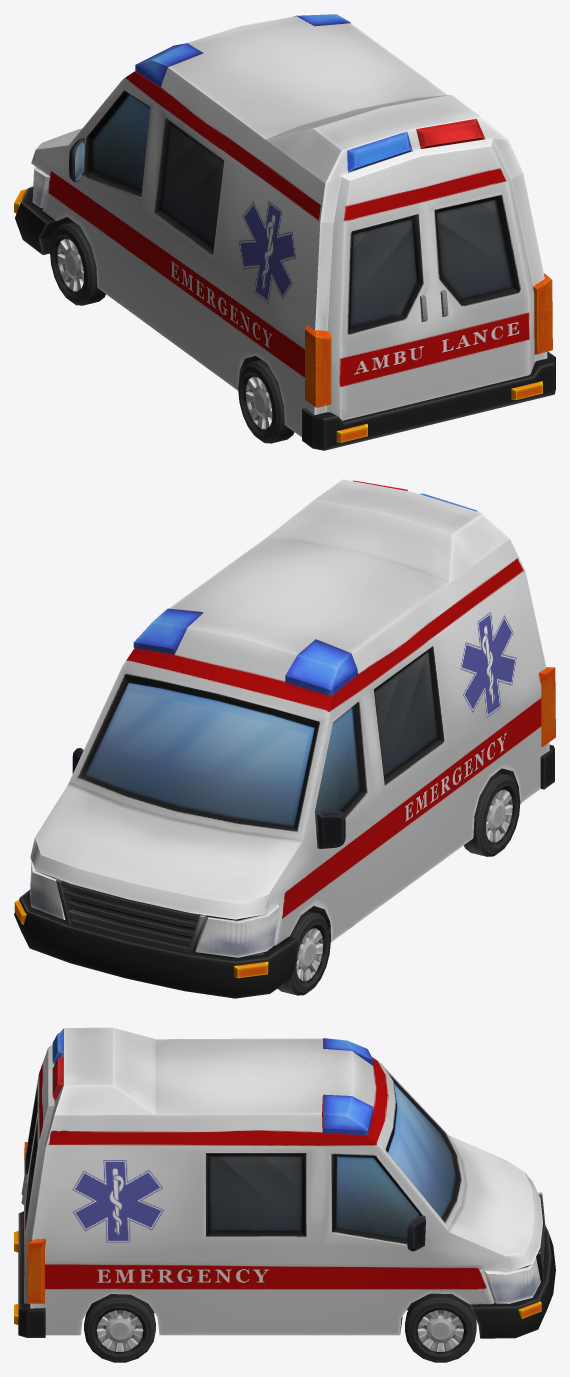
File: ambulance_car_-_low_poly.glb
The picture shows the model from 3 angles, top to bottom: view 1: azimuth 30°, elevation 25°; view 2: azimuth 150°, elevation 25°; view 3: azimuth 270°, elevation 25°; orthographic projection. The views are drawn at different scales.
Parts seen in each view (by area): view 1: Object_2; view 2: Object_2; view 3: Object_2.
Boxes of the visible parts, left/top/right/bottom form: Object_2: left=14, top=14, right=555, bottom=450; Object_2: left=14, top=479, right=555, bottom=998; Object_2: left=14, top=1027, right=555, bottom=1362.
Bounding box in the file's own units: 2.75 × 3 × 5.64.
1 material, 1 textured.
